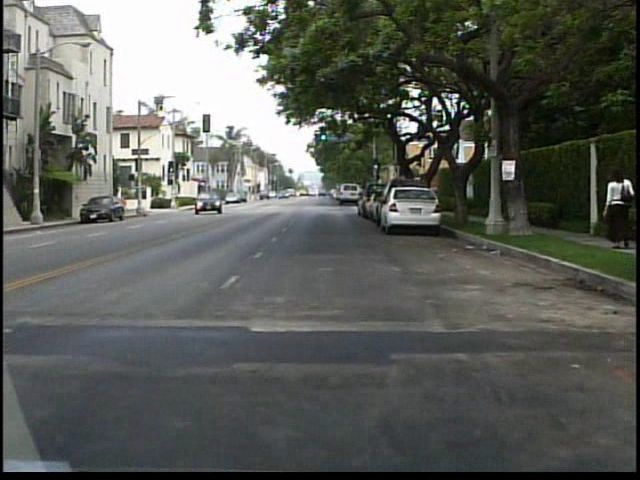person: (596, 164, 638, 252)
